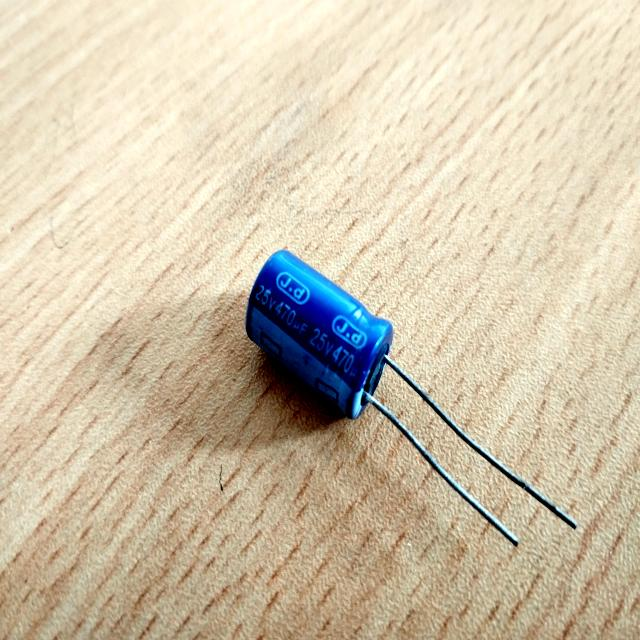Capacitor-470mf: (229, 226, 592, 598)
